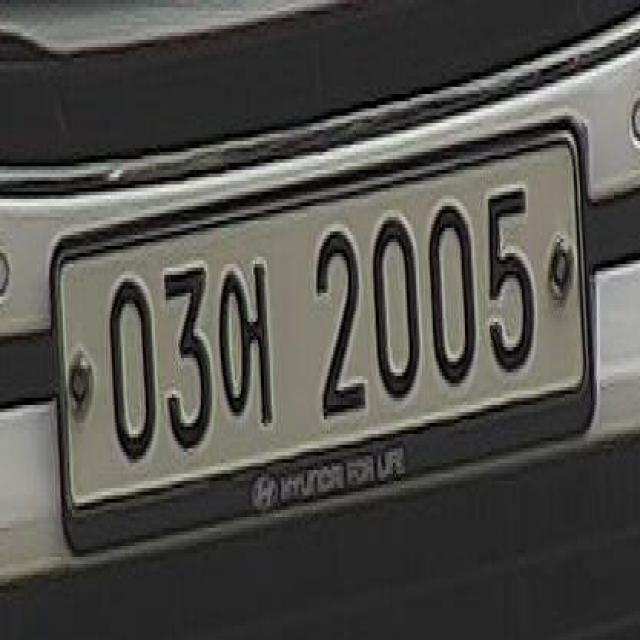illegal_plate: (52, 125, 601, 548)
